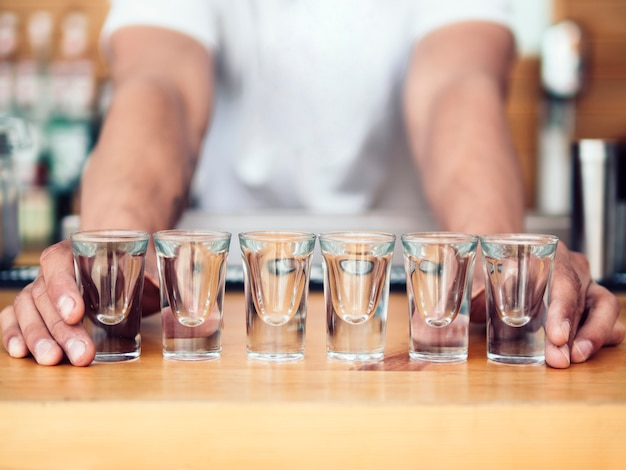alcohol: (320, 231, 396, 367), (402, 230, 479, 364), (71, 230, 148, 363), (481, 232, 558, 365), (240, 230, 316, 362), (154, 232, 230, 360)
